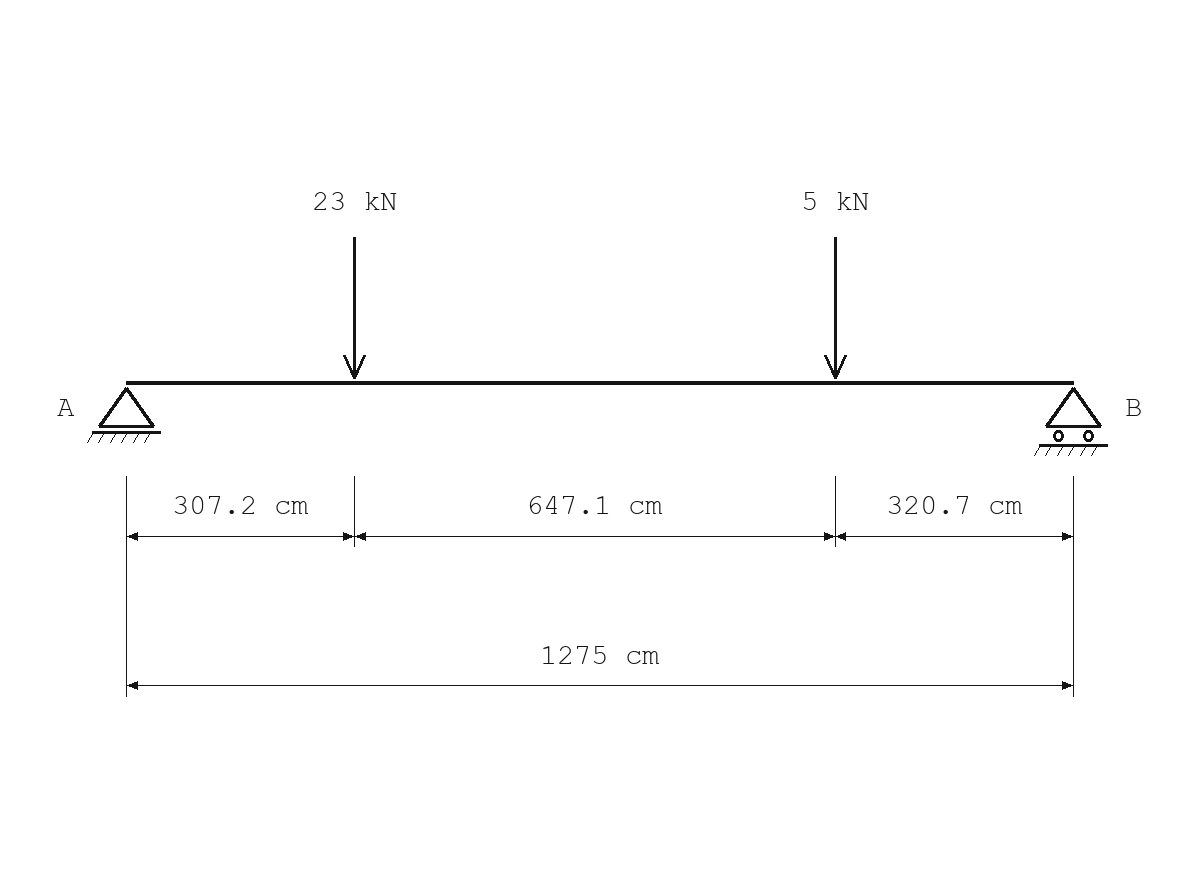pin_support: (87, 387, 161, 443)
point_load: (343, 237, 366, 379), (824, 237, 847, 379)
roller_support: (1034, 387, 1108, 456)
